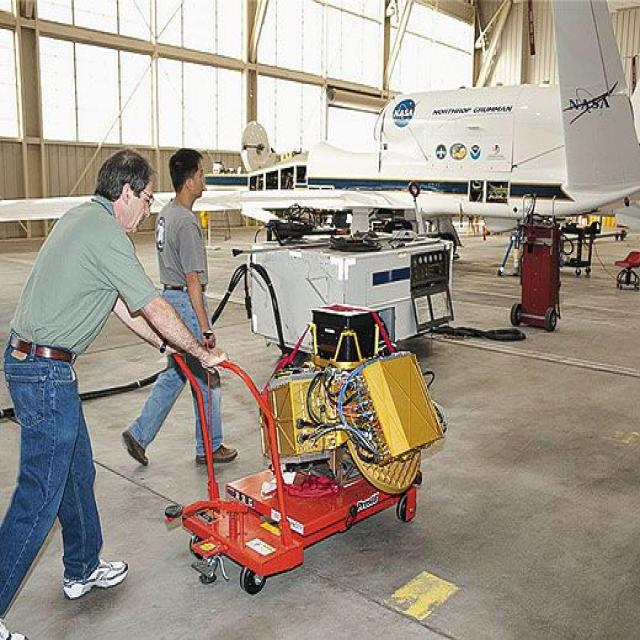MIL_Plane: (1, 2, 640, 255)
